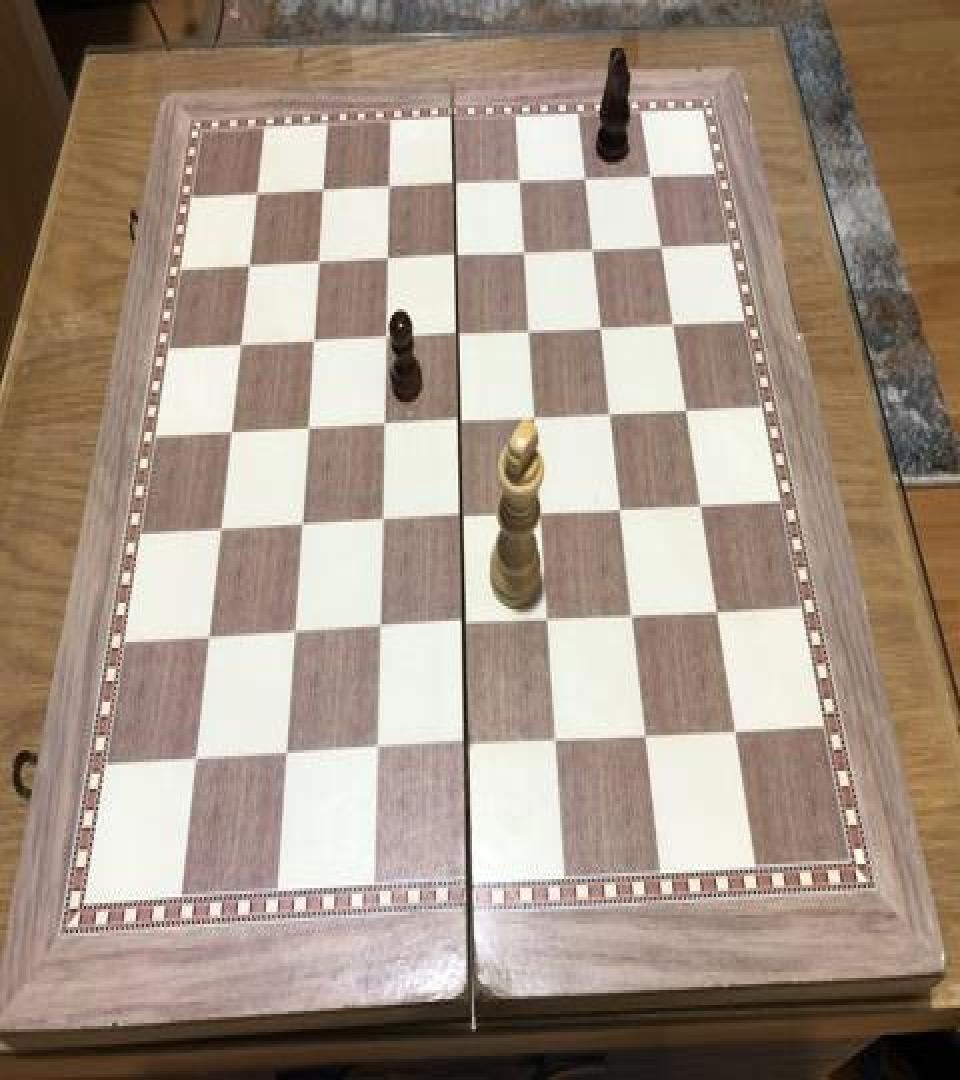xcorner: (620, 601, 644, 638), (449, 610, 473, 647), (196, 625, 220, 662), (542, 727, 566, 764), (640, 158, 664, 194), (574, 160, 598, 196), (507, 165, 531, 201), (441, 170, 465, 206), (376, 174, 400, 210), (310, 178, 334, 214), (245, 182, 269, 218), (650, 228, 674, 264), (581, 232, 605, 268), (512, 237, 536, 273), (443, 242, 467, 278), (374, 246, 398, 282), (305, 249, 329, 285), (237, 254, 261, 290), (662, 308, 686, 344), (589, 312, 613, 348), (517, 315, 541, 351), (444, 320, 468, 356), (372, 324, 396, 360), (228, 333, 252, 369), (675, 393, 699, 429), (598, 398, 622, 434), (522, 402, 546, 438), (446, 406, 470, 442), (370, 411, 394, 447), (294, 416, 318, 452), (218, 420, 242, 456), (689, 489, 713, 525), (608, 495, 632, 531), (528, 500, 552, 536), (447, 504, 471, 540), (367, 508, 391, 544), (287, 513, 311, 549), (208, 518, 232, 554), (705, 597, 729, 633), (534, 606, 558, 642), (365, 615, 389, 651), (280, 621, 304, 657), (723, 717, 747, 753), (632, 722, 656, 758), (451, 732, 475, 768), (362, 736, 386, 772), (272, 741, 296, 777), (183, 746, 207, 782), (300, 329, 324, 364)
